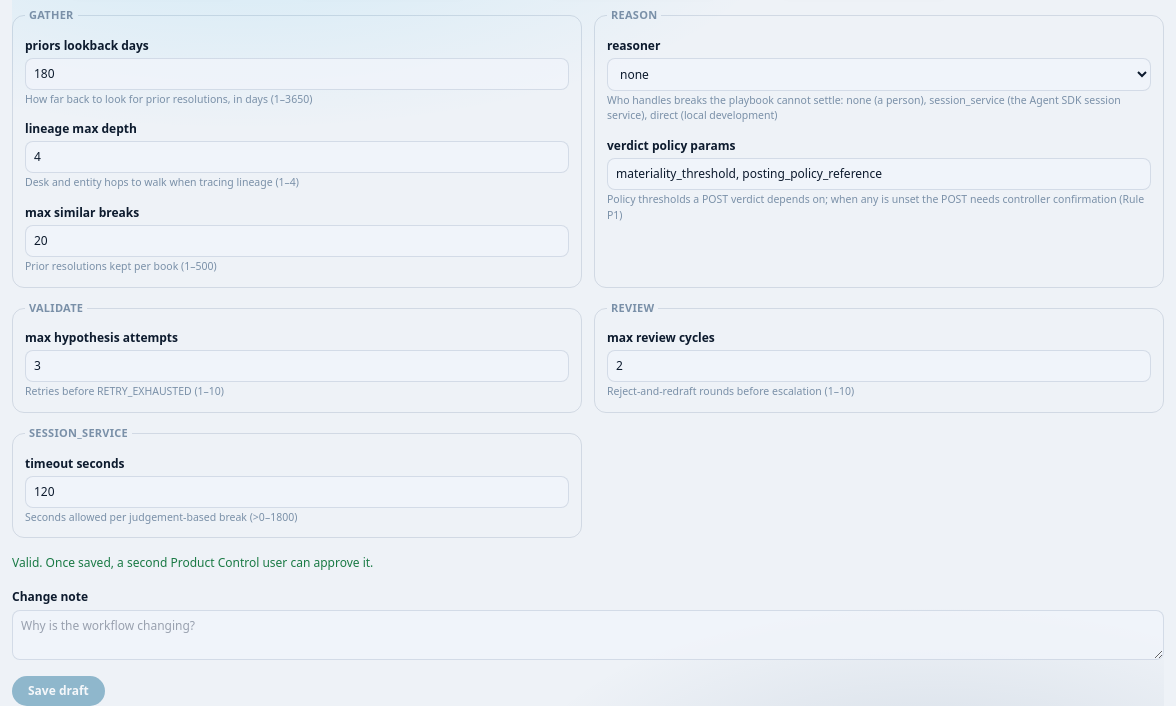
Test: DraftEditor › shows what the server refused when saving fails
(page scrolled)
In the text box labelled "Change note": (588, 635) [12,610,1164,660], type "why"
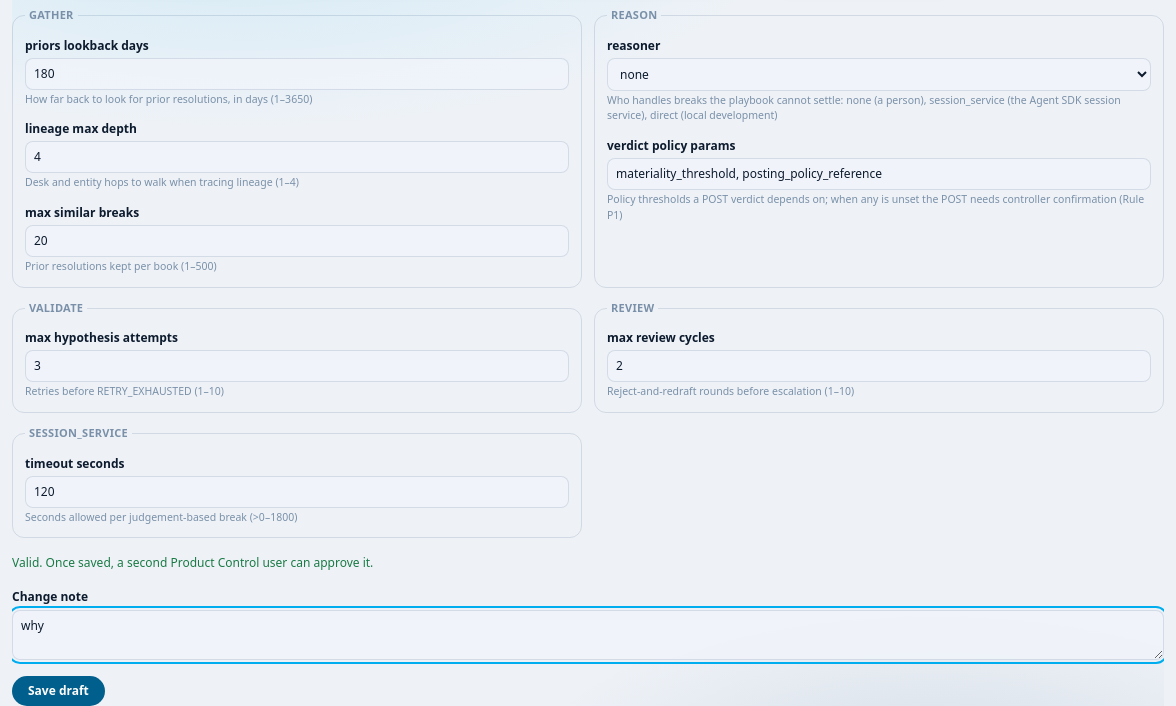
Click the button "Save draft": (58, 691) [12,676,105,705]
(page scrolled)
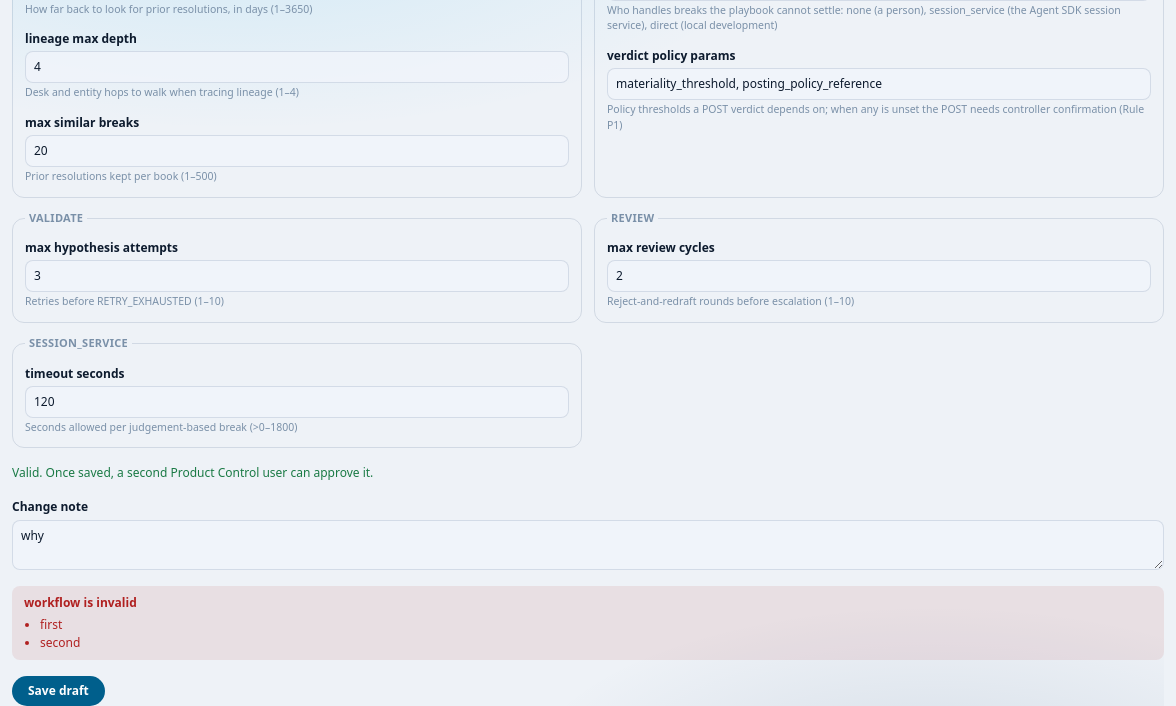
Check: the list item "second" is shown, box [40,634,80,651]
